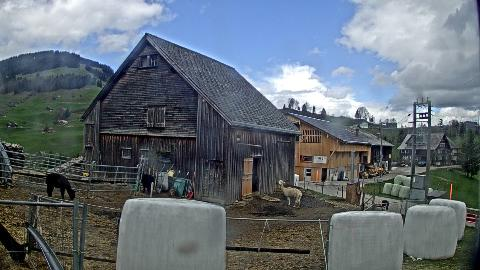car: (418, 161, 426, 167)
sheep: (0, 222, 28, 264), (46, 172, 76, 201), (278, 180, 302, 208), (141, 173, 155, 195), (377, 200, 389, 212), (376, 200, 382, 210)
